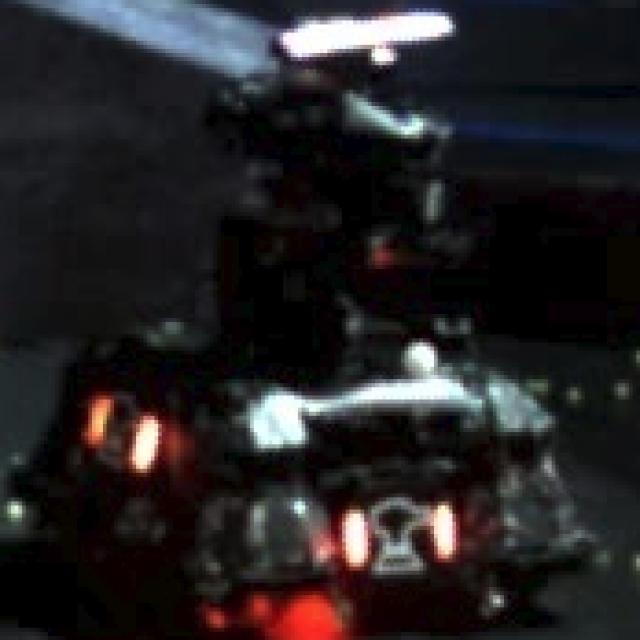Rs: (335, 493, 456, 575), (88, 387, 158, 477)
